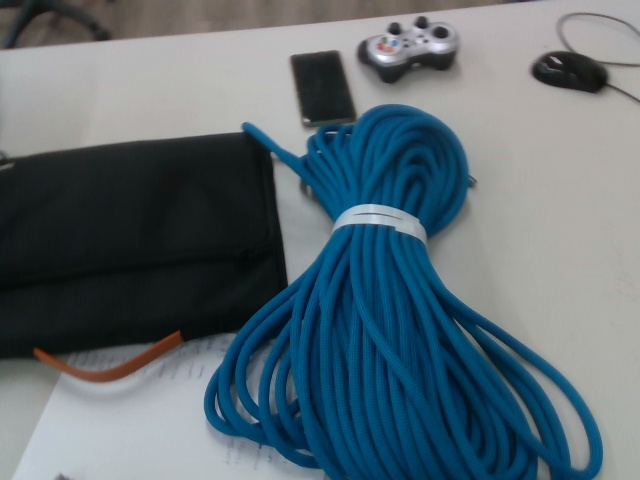rope: (199, 98, 612, 480)
